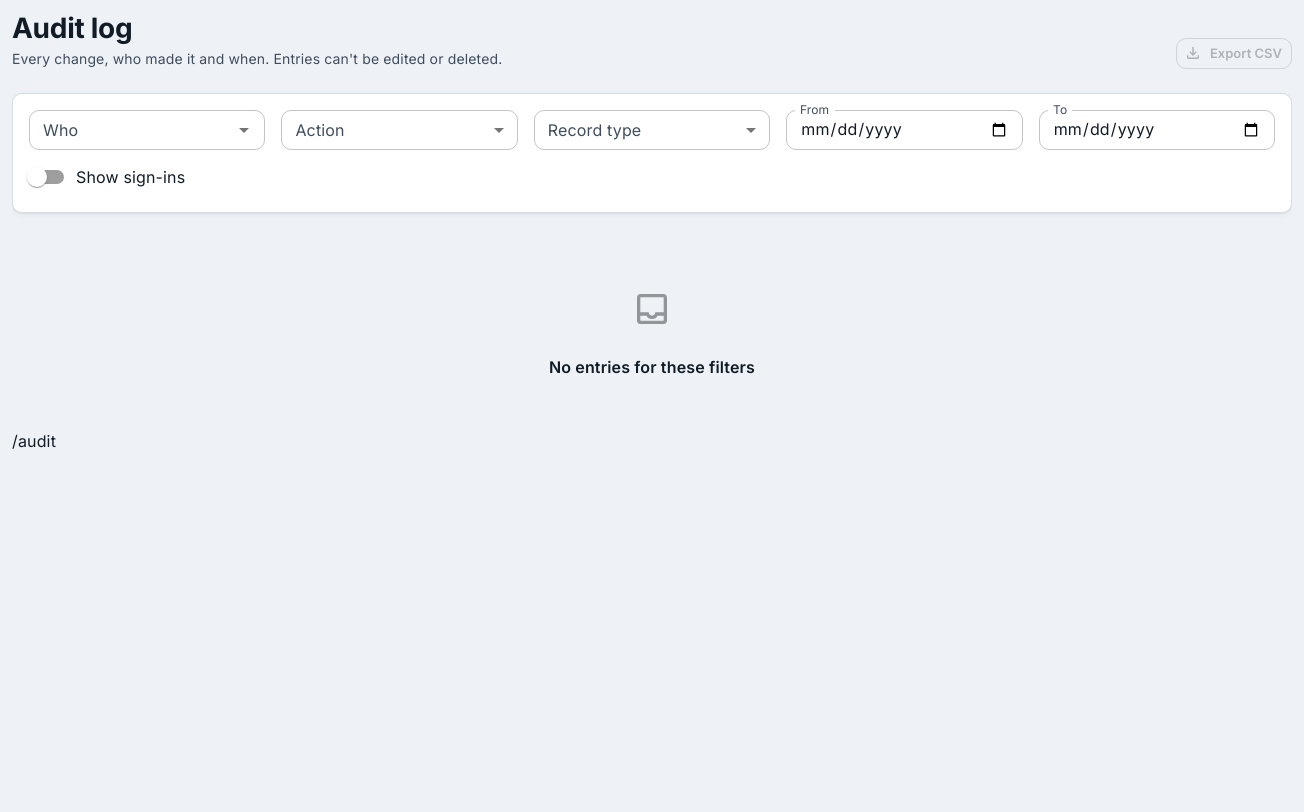
Test: AuditPage › Who and Action filters are sent to the server
Step 1. Type "bla" into the dropdown labelled "Who" → (131, 130), box [35,116,226,144]
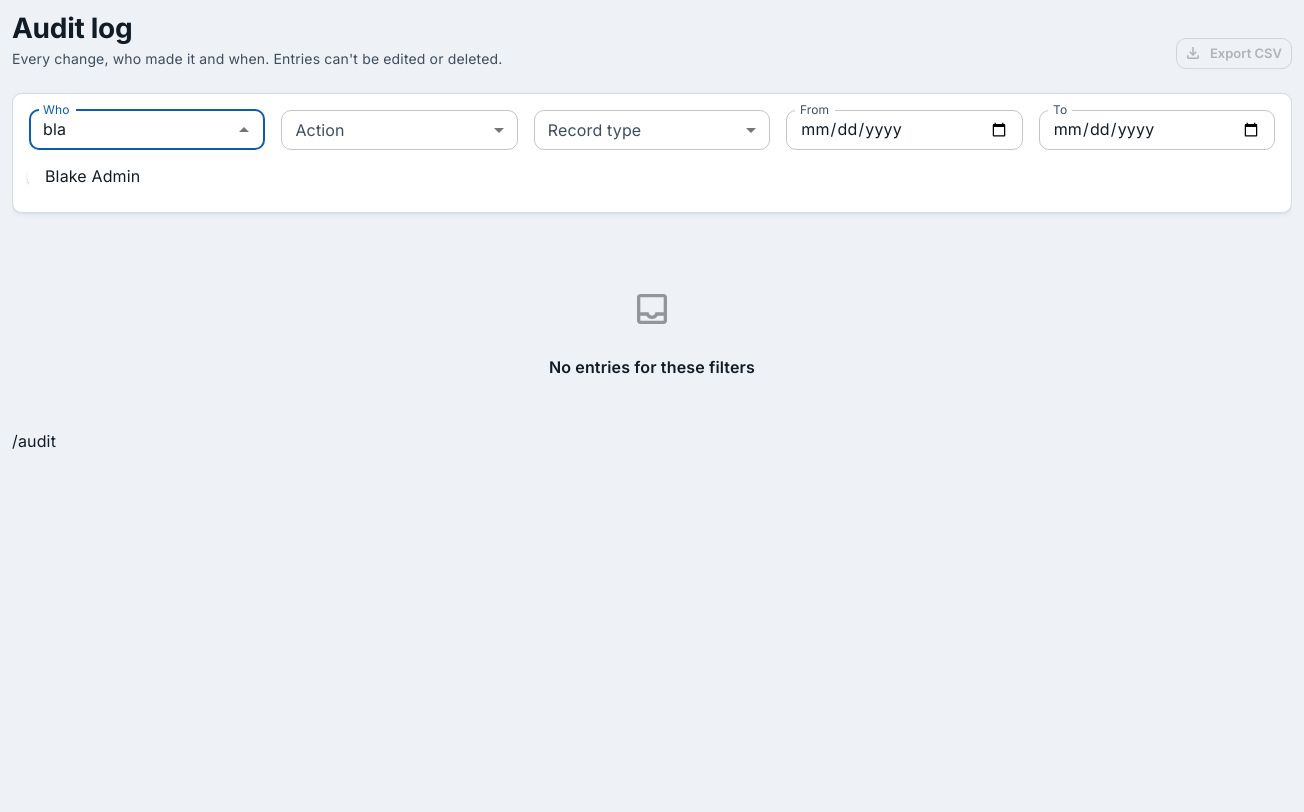
Step 2. Click the option "Blake Admin" → (93, 176), box [45,166,140,186]
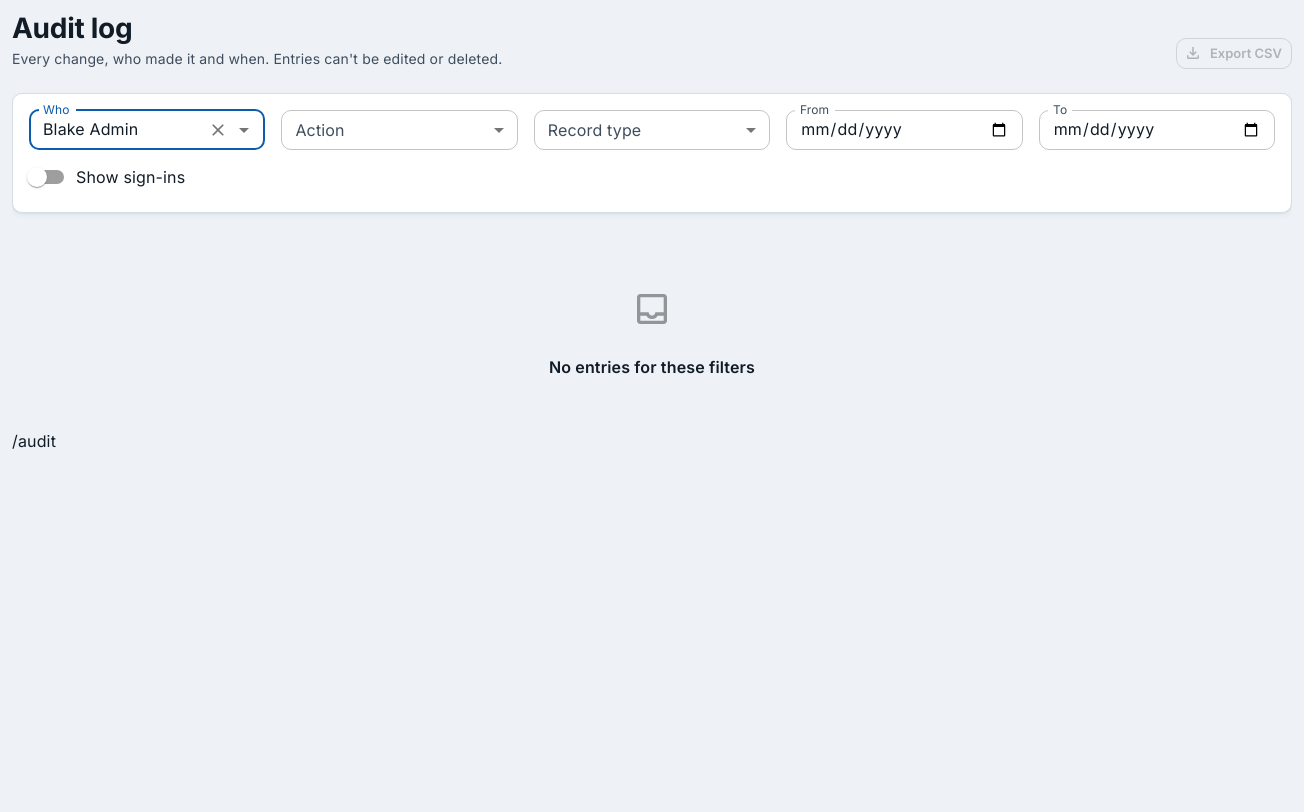
Step 3. Click the dropdown named "action" next to "Action" → (400, 130), box [281,110,518,150]
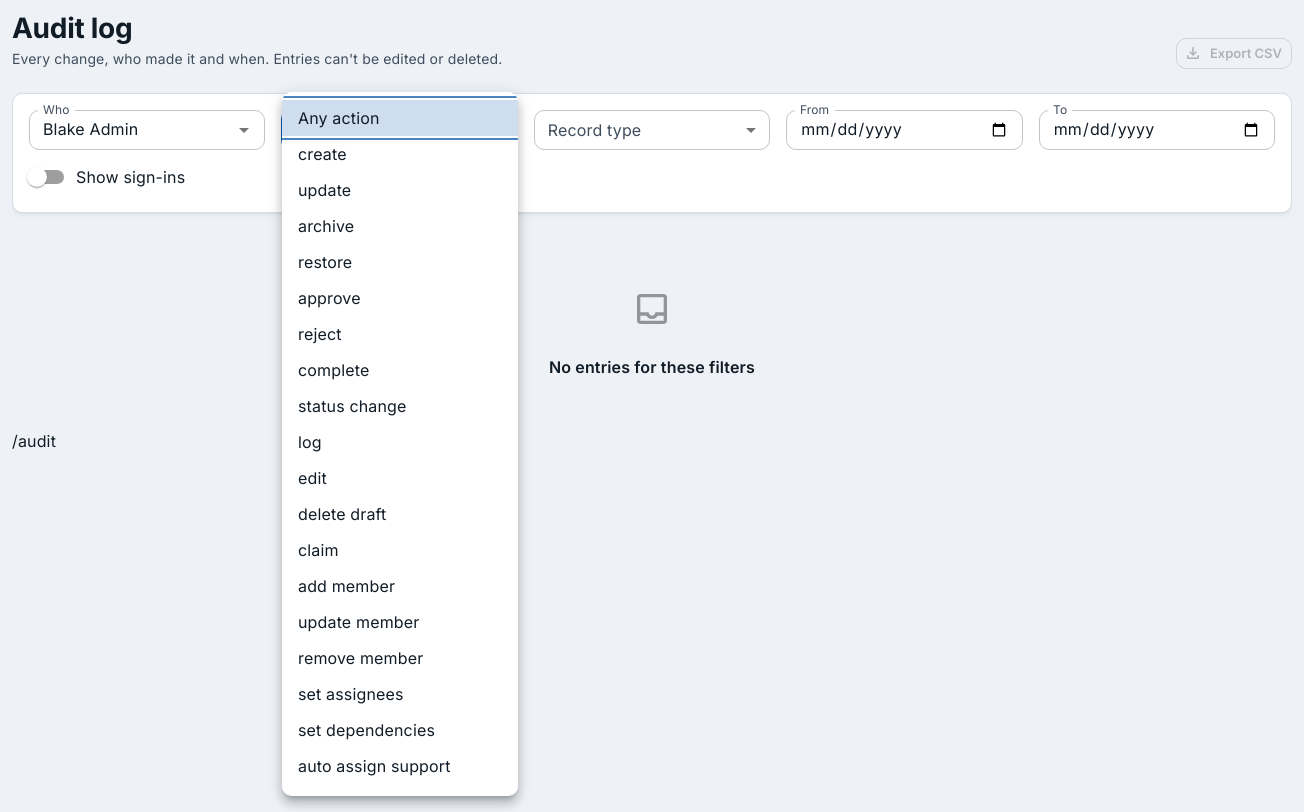
Step 4. Click the option "archive" → (326, 226), box [298,216,354,236]
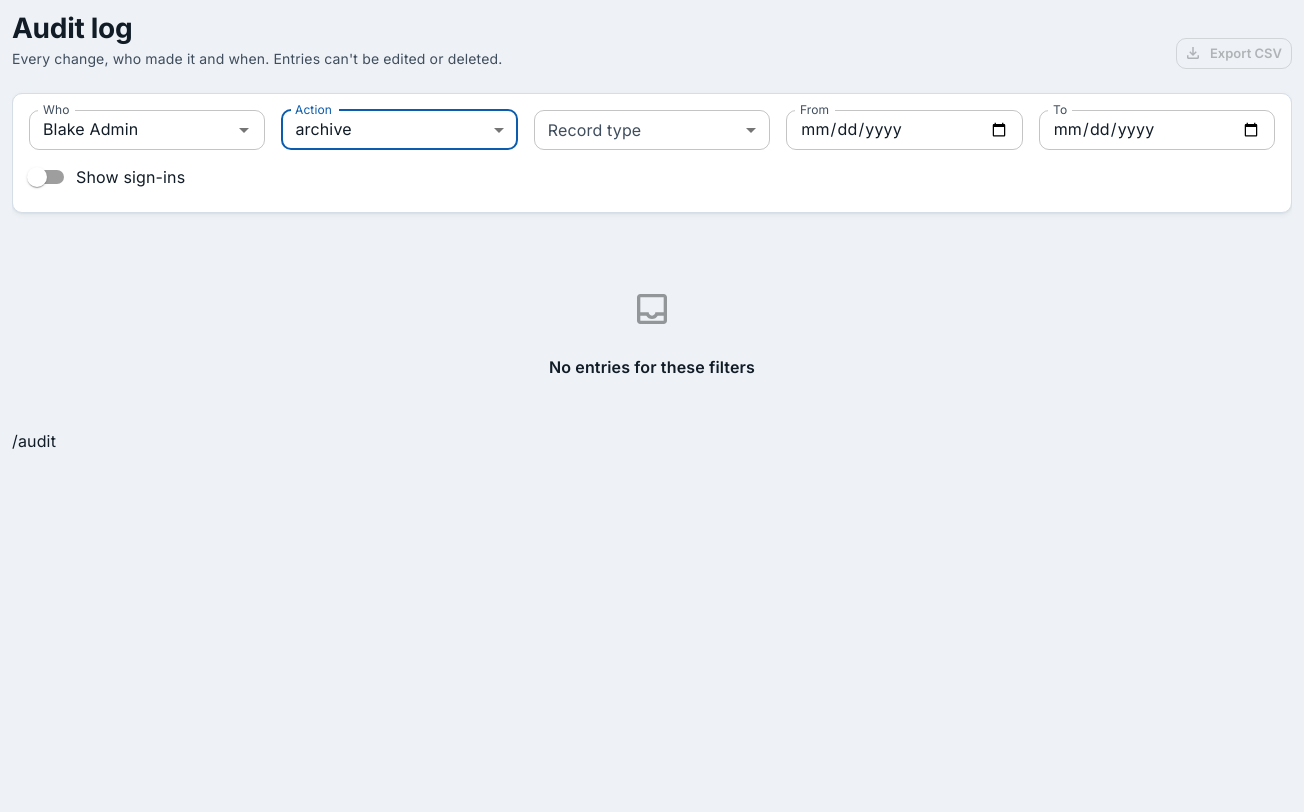
Step 5. Clear the dropdown labelled "Who" → (118, 130), box [35,116,200,144]
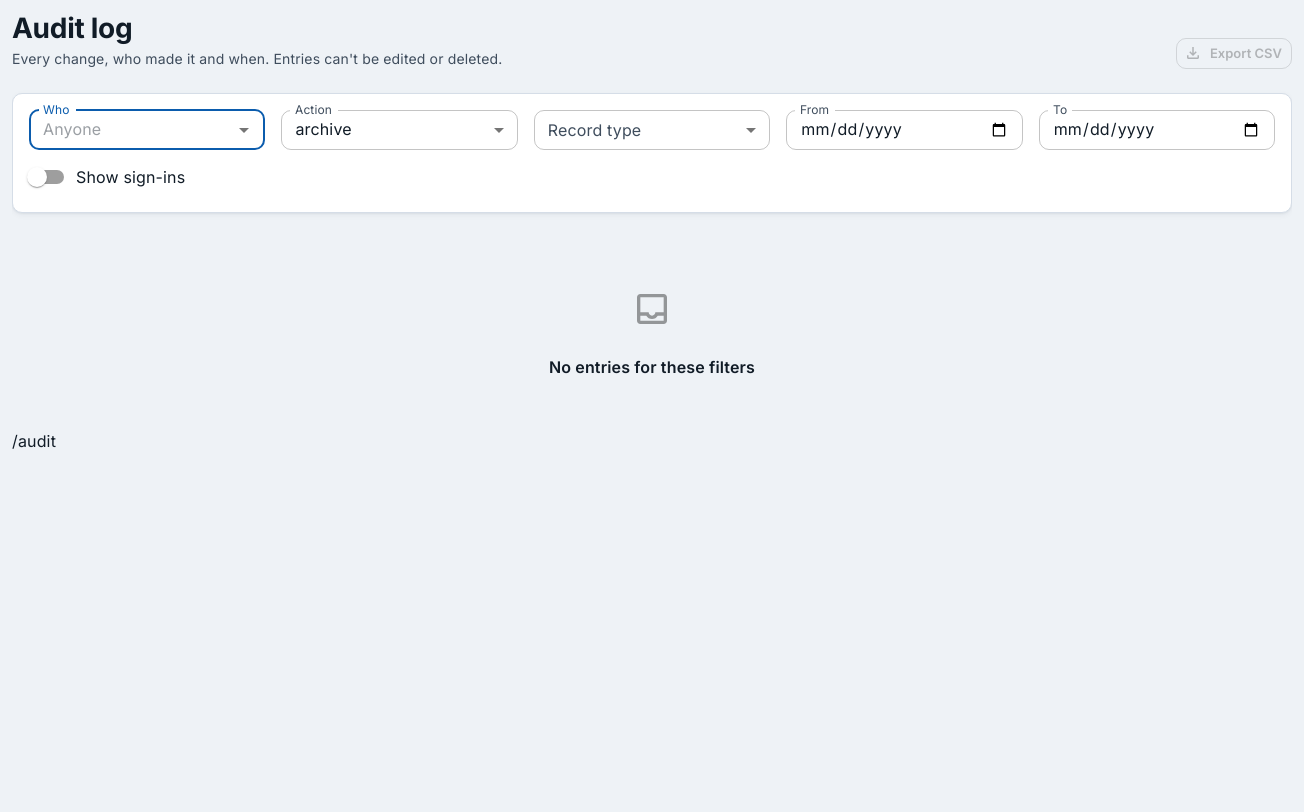
Step 6. Type "oli" into the dropdown labelled "Who" → (131, 130), box [35,116,226,144]
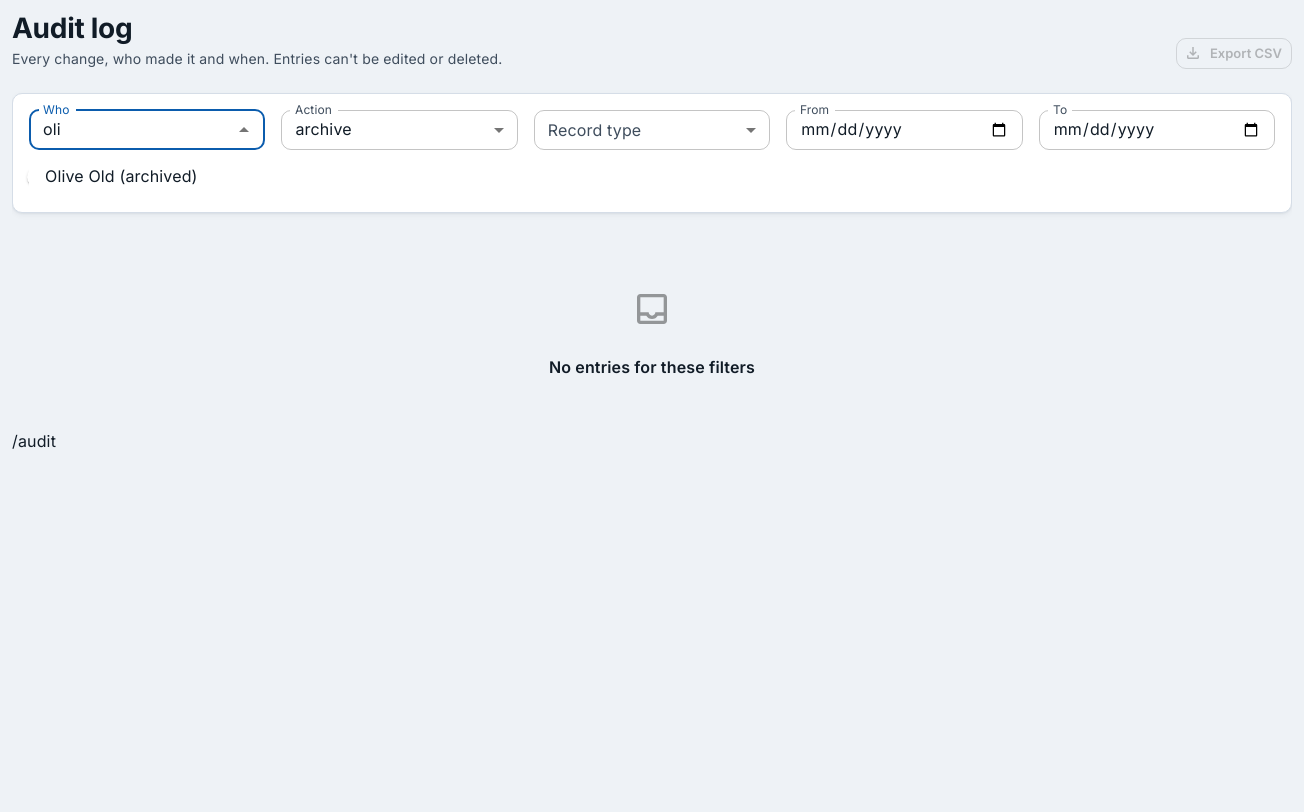
Now the option "Olive Old (archived)" is shown, box [45,166,198,186]
